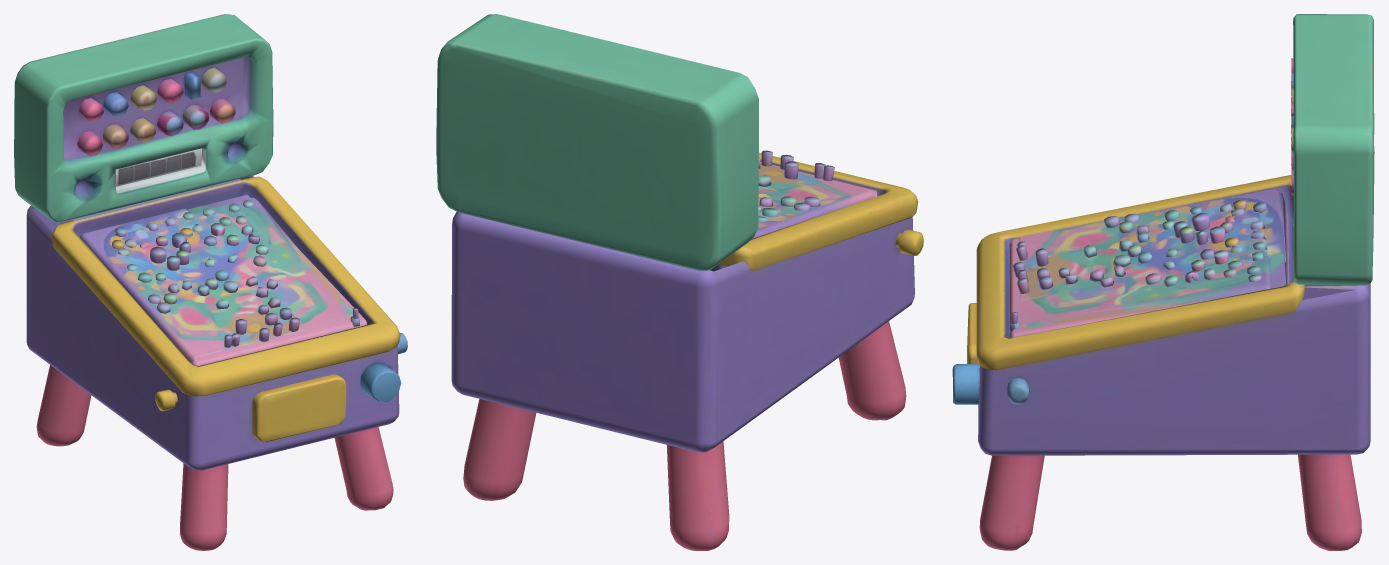
The model's file is pinball.glb.
The picture shows the model from 3 angles, left to right: view 1: azimuth 30°, elevation 25°; view 2: azimuth 150°, elevation 25°; view 3: azimuth 270°, elevation 25°; orthographic projection. The views are drawn at different scales.
Visible parts, largest first — view 1: geometry_0; view 2: geometry_0; view 3: geometry_0.
Boxes of the visible parts, <box> form: geometry_0: <box>14,14,407,550</box>; geometry_0: <box>436,14,923,550</box>; geometry_0: <box>952,14,1374,550</box>.
Size of the model in its own units: 0.6933 by 1 by 0.8945.
Materials: 1 (1 with a texture image).
